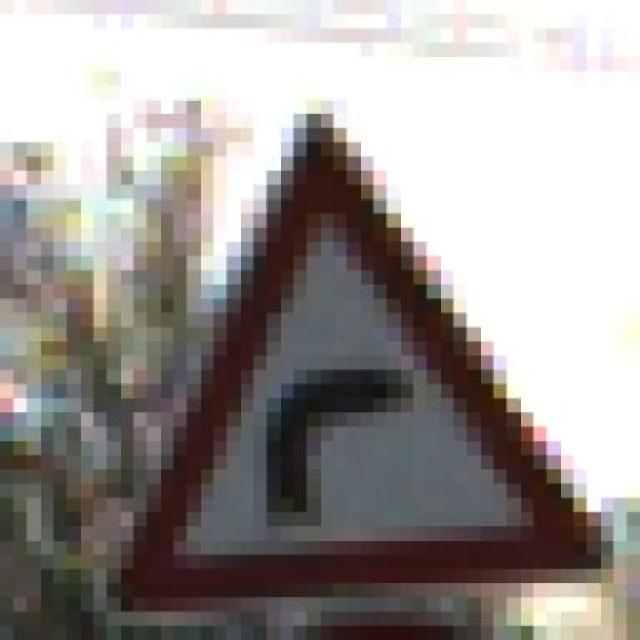Dangerous Rright Curve Ahead: (66, 86, 614, 612)
